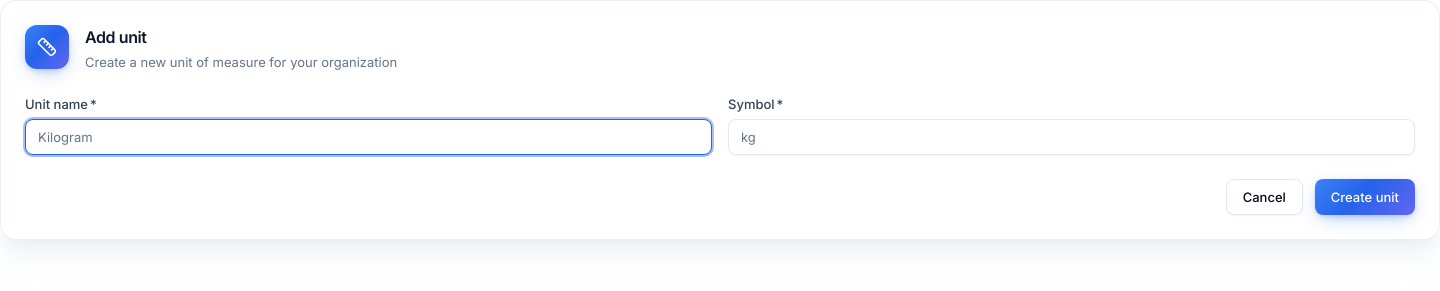
Test: UnitForm (create) › shows a validation error and does not submit when fields are empty
The width and height of the screenshot is (1440, 291).
Click the button "Create unit" at (1365, 197), box x1=1315 y1=179 x2=1415 y2=215
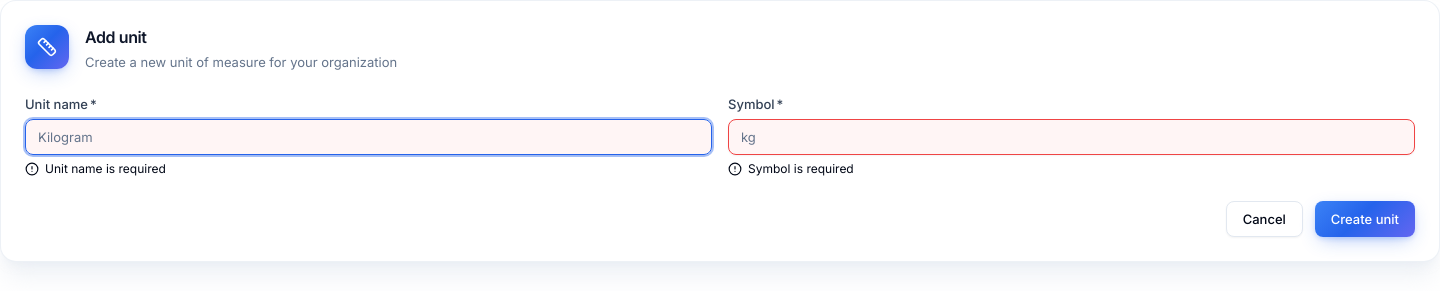
Now the text "Unit name is required" is shown, box x1=25 y1=161 x2=166 y2=176
